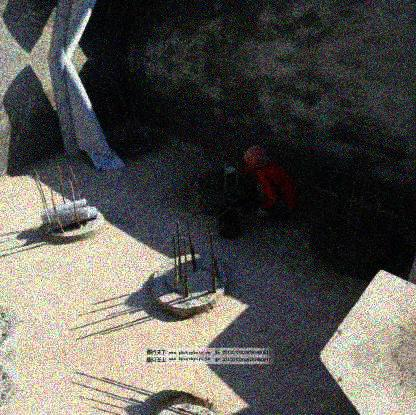helmet: (242, 143, 269, 167)
